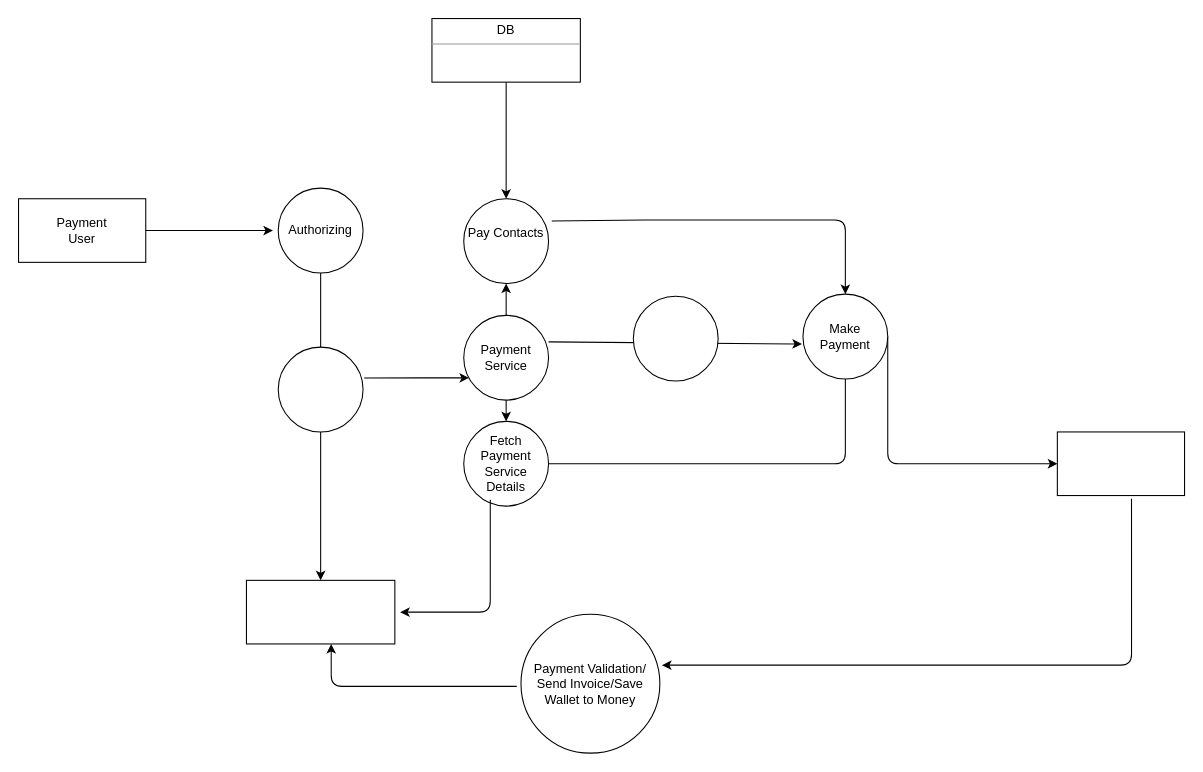
Some shapes in this 1203 by 772 pixel diagram are drawn without their labels. The centre of each missing label's shape, as x and y in pixels:
"Add Money to Wallet" belongs at [675,338].
"Authentication Service" belongs at [320,389].
"DB/Transactions" belongs at [320,611].
"Payment Gateways" belongs at [1120,463].
